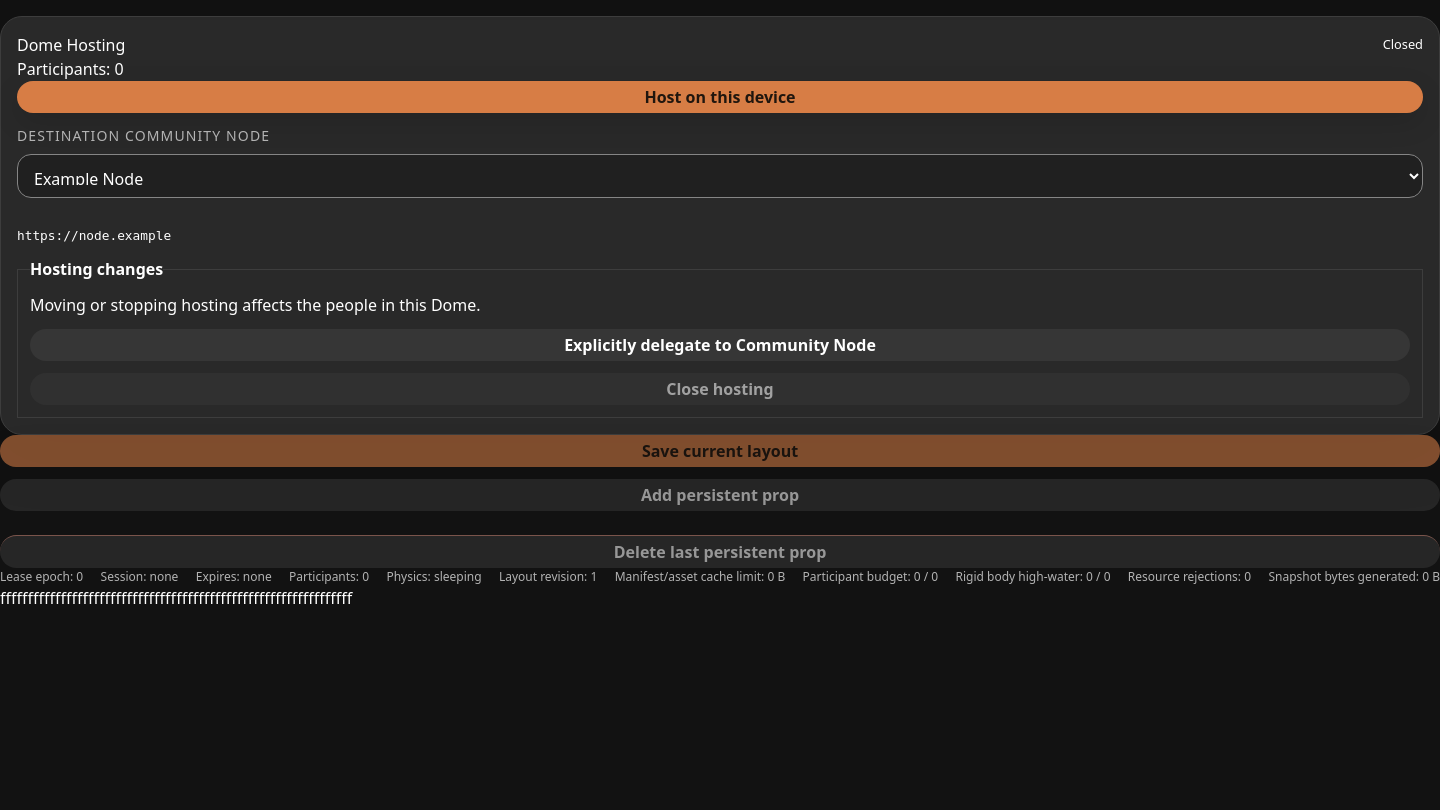
Test: DomeHostingPanel Community Node consent › turns a runtime consent race back into the same policy flow
Step 1. Click the button "Explicitly delegate to Community Node" → (720, 345), box x1=30 y1=329 x2=1410 y2=361
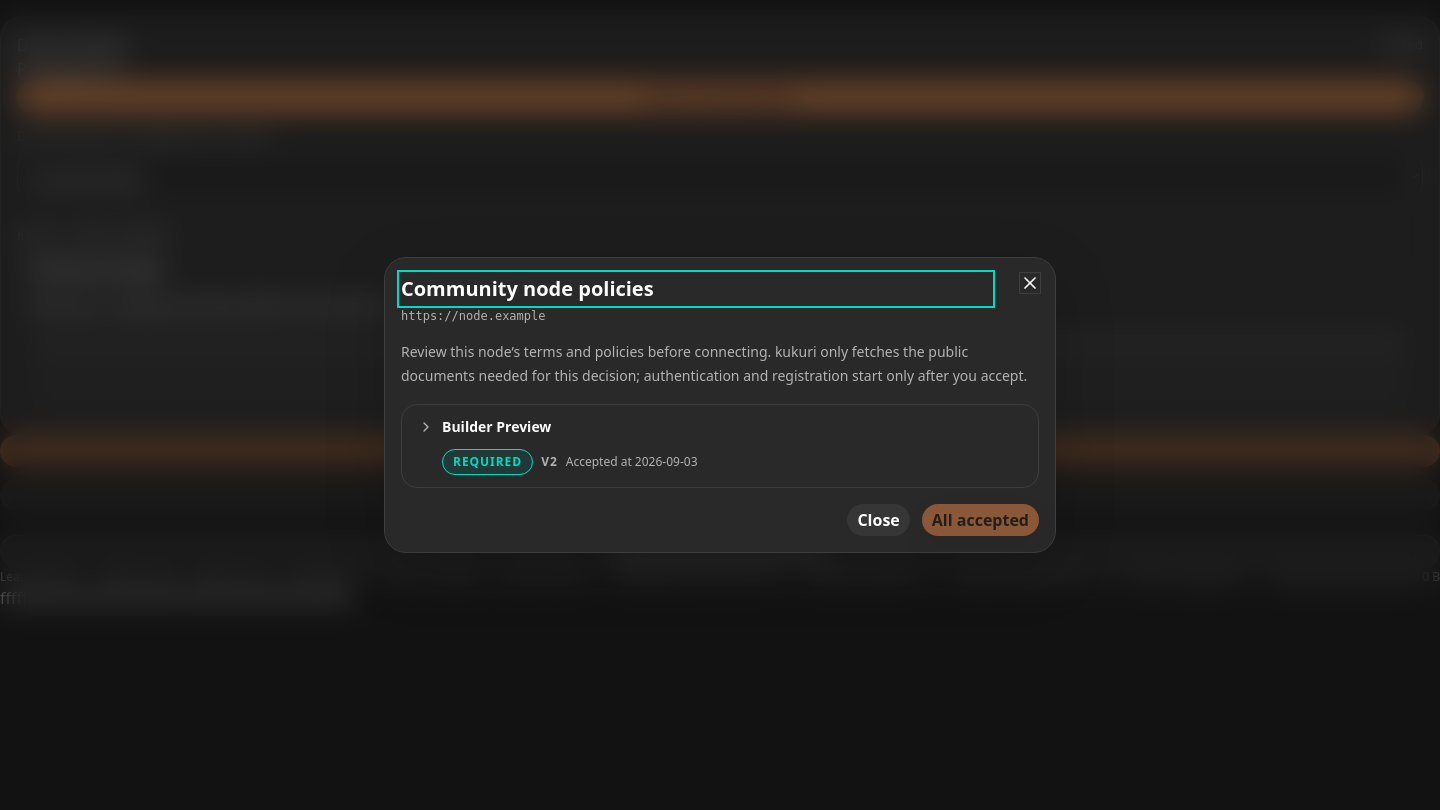
Result: the dialog is shown at x1=384 y1=257 x2=1056 y2=553
